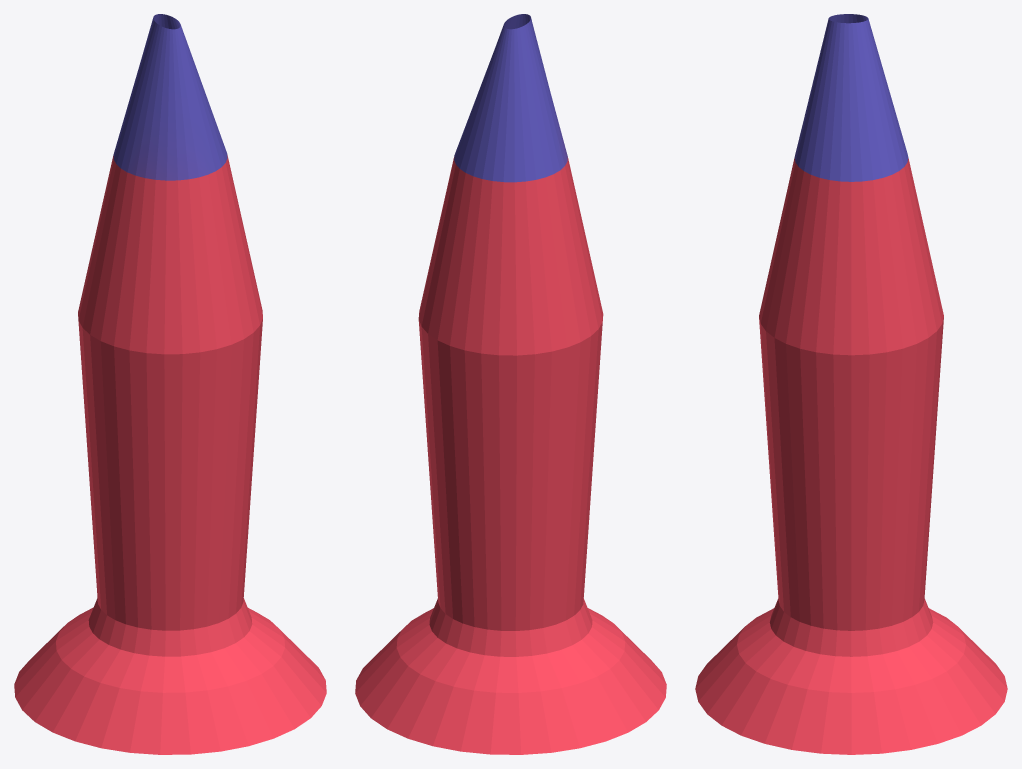
Rendered from rocketColoredP3glb.glb.
The picture shows the model from 3 angles, left to right: view 1: azimuth 30°, elevation 25°; view 2: azimuth 150°, elevation 25°; view 3: azimuth 270°, elevation 25°; orthographic projection.
Parts seen in each view (by area): view 1: Cube.003; view 2: Cube.003; view 3: Cube.003.
Boxes of the visible parts, x1,y1,x2,y2 form: Cube.003: (14, 14, 326, 754); Cube.003: (355, 14, 666, 754); Cube.003: (695, 14, 1007, 754).
Bounding box in the file's own units: 1.55 × 3.65 × 1.55.
1 material, 1 textured.
